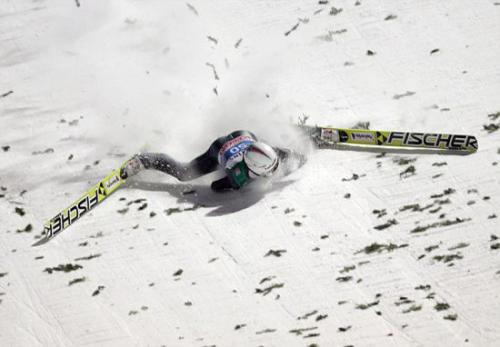fall: (117, 103, 374, 205)
